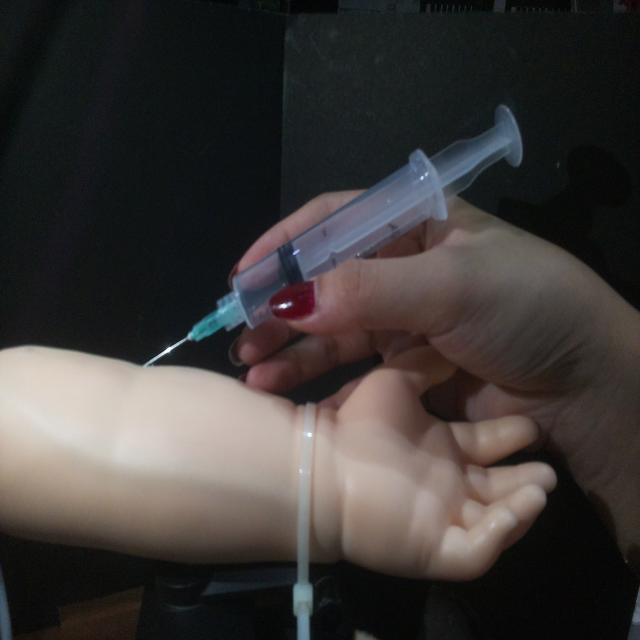27deg: (139, 98, 527, 370)
